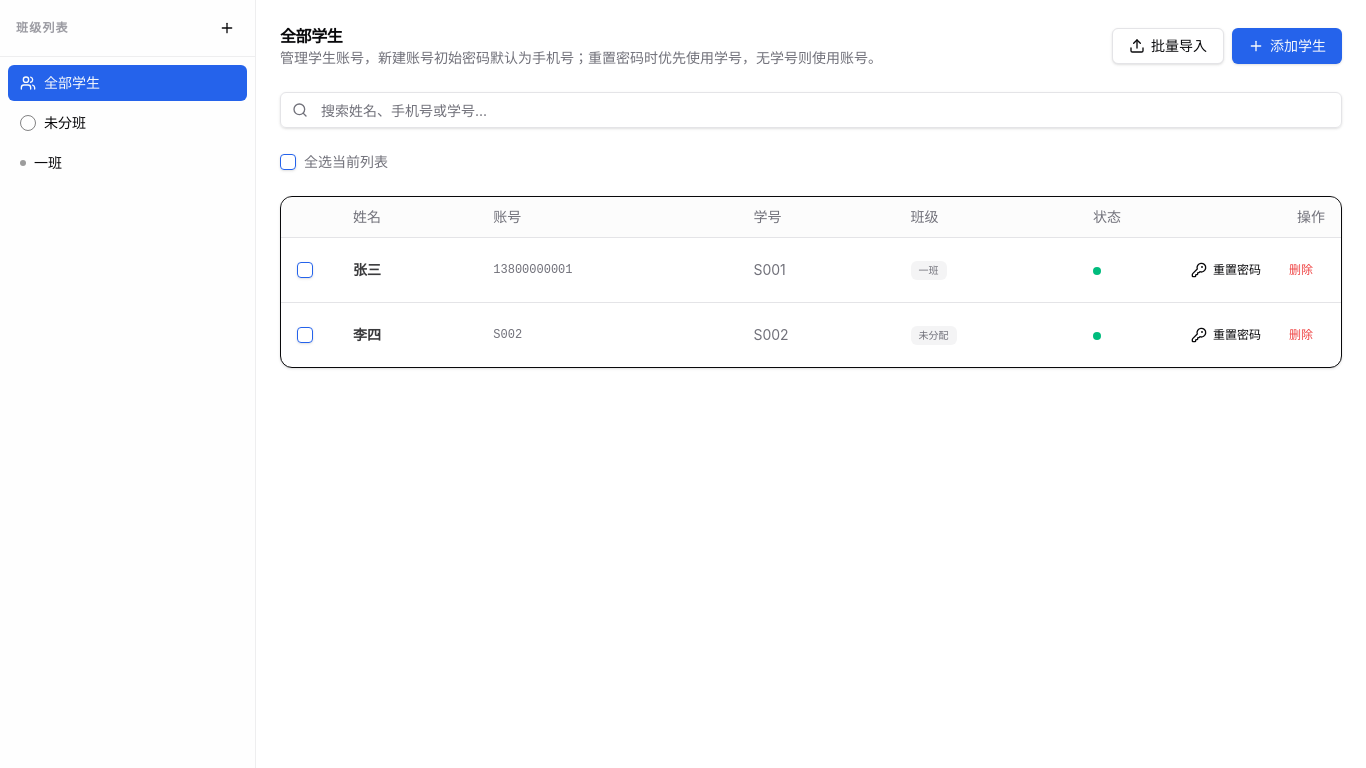
Test: StudentManagementPage › supports filtering unassigned students from the left sidebar
The image size is (1366, 768).
Expected: the text "张三" is shown, top-left (337, 237), bottom-right (477, 302)
Expected: the text "李四" is shown, top-left (337, 302), bottom-right (477, 366)
Click the button "未分班": (128, 123) top-left (8, 105), bottom-right (247, 141)
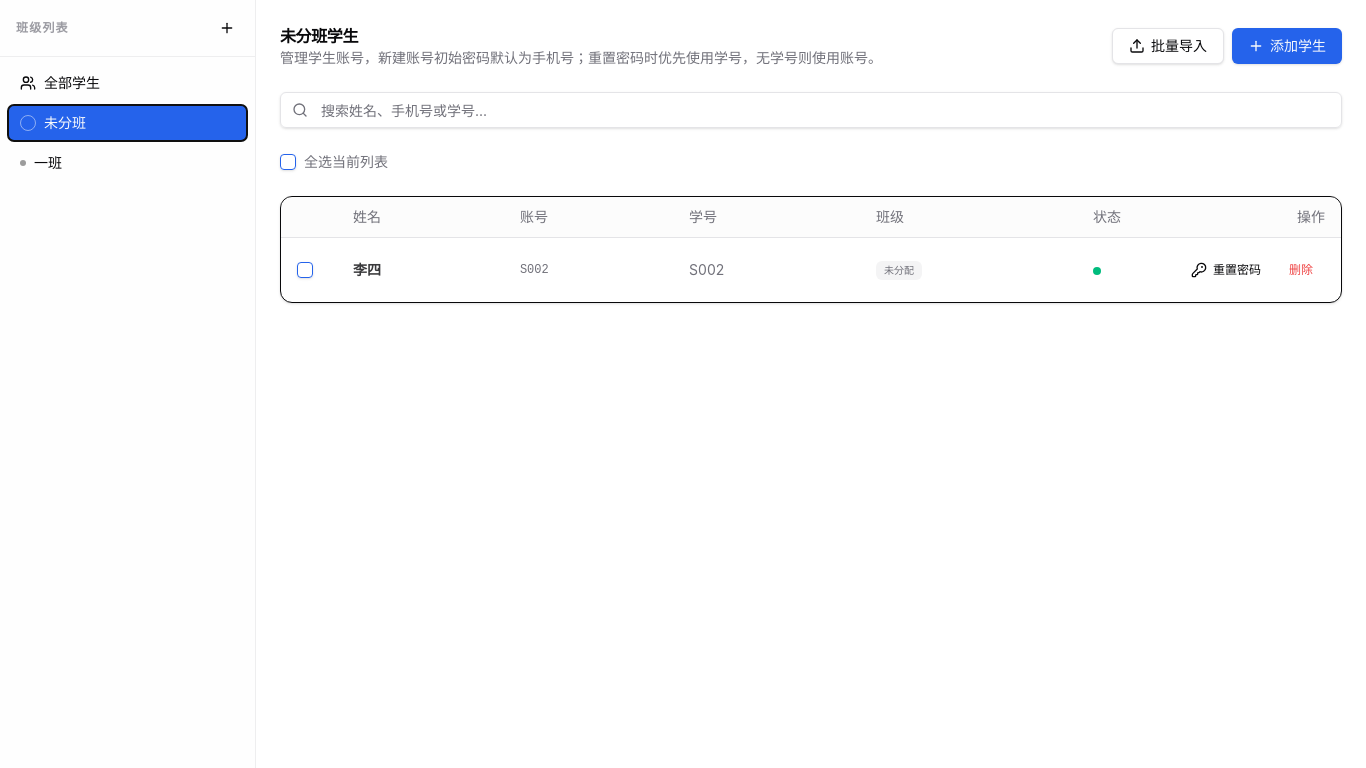
Expected: the text "李四" is shown, top-left (337, 237), bottom-right (504, 302)
Expected: the text "张三" is gone
Expected: the heading "未分班学生" is shown, top-left (280, 26), bottom-right (358, 46)
